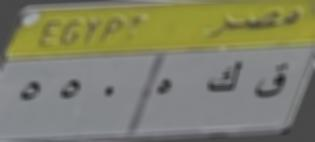0: (93, 79, 124, 101)
5: (16, 73, 49, 106), (57, 73, 85, 105)
haa: (150, 68, 183, 107)
kaaf: (199, 57, 248, 97)
qaaf: (254, 55, 291, 104)
